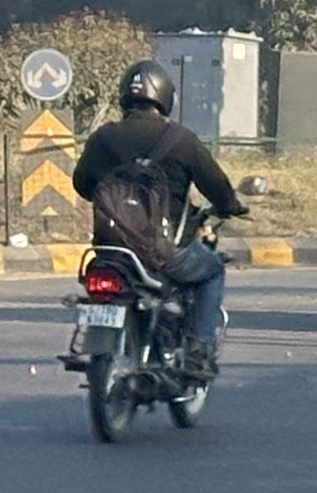BikeWithRider: (52, 53, 273, 449)
Helmet: (110, 54, 181, 123)
